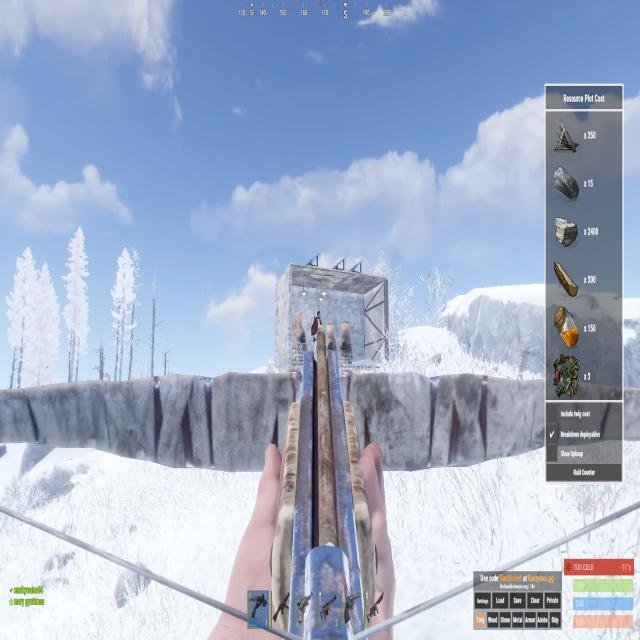Player: (311, 309, 323, 353)
